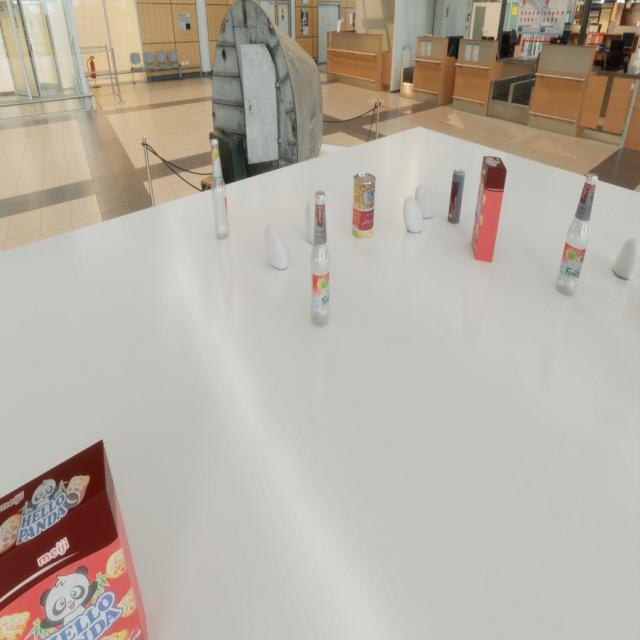Bottle: (556, 173, 598, 296), (310, 191, 330, 326), (210, 139, 230, 239)
HelloPanda: (471, 156, 507, 263)
Potato_sticks: (352, 173, 376, 239)
Rita_zero_sugar: (448, 169, 465, 224)
Salt: (612, 238, 640, 279), (264, 224, 289, 269), (305, 200, 321, 244), (403, 197, 423, 232), (414, 185, 434, 218)
